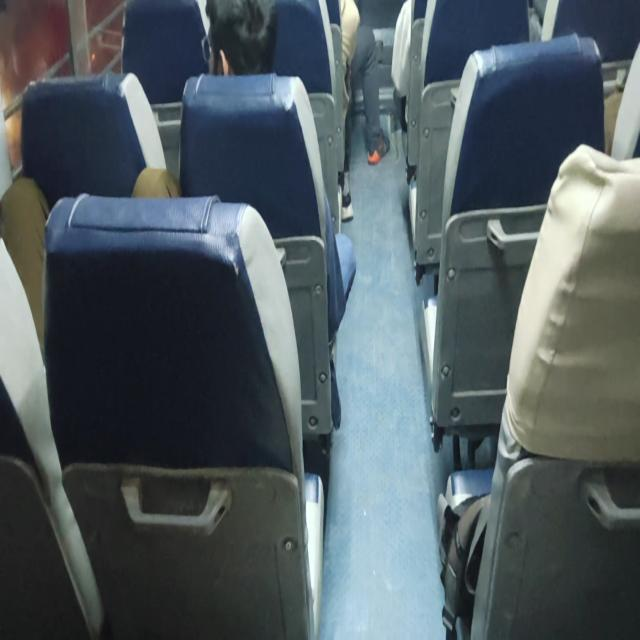person: (204, 0, 278, 87)
